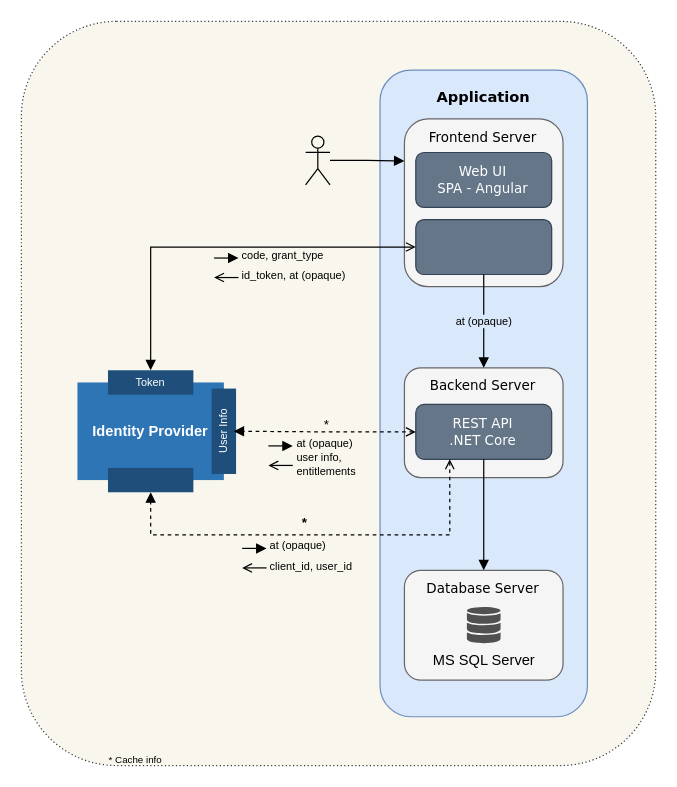
The diagram is 677 pixels wide and 787 high, and some of its shapes have lost their labels. Each missing label, with the centre of its shape:
Introspection: point 150,479
Reverse Proxy .NET Core: point 483,246
User: point 317,160
